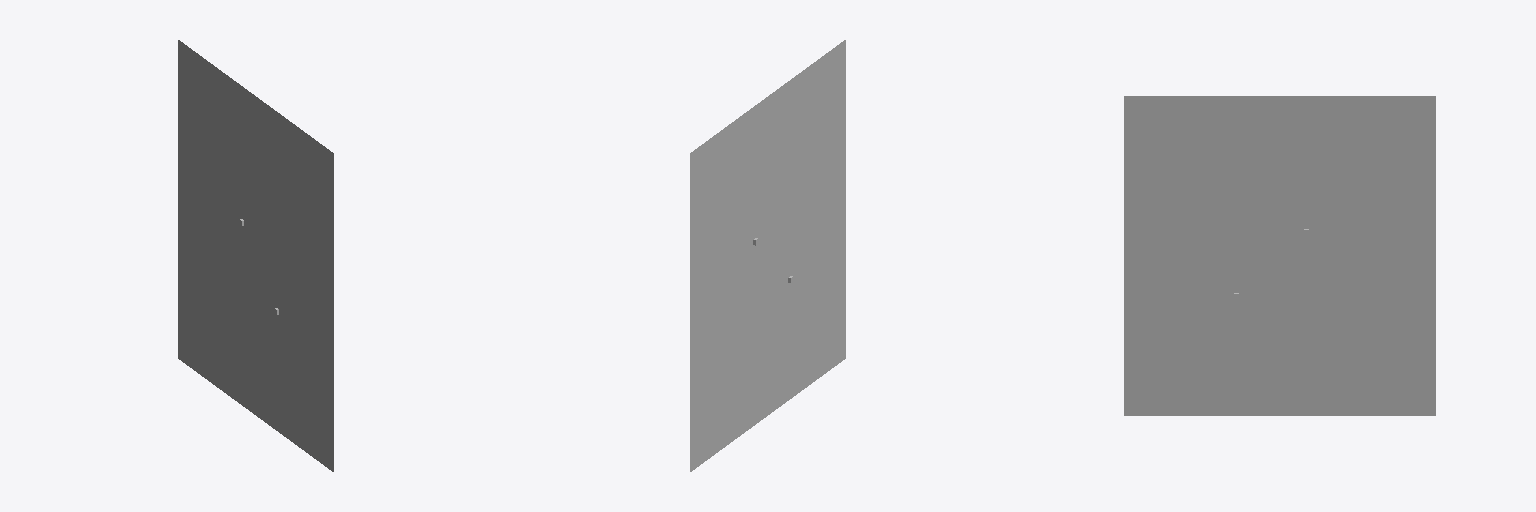
File: shooter.obj
3 renders of one model, left to right at view 1: azimuth 30°, elevation 25°; view 2: azimuth 150°, elevation 25°; view 3: azimuth 270°, elevation 25°, orthographic.
Visible parts, largest first — view 1: background_2_Plane.002, solid_1_Plane, background_1_Plane.001; view 2: background_2_Plane.002, solid_1_Plane, background_1_Plane.001; view 3: background_2_Plane.002, solid_1_Plane, background_1_Plane.001.
Part boxes in pixels (left/top/right/bottom): background_2_Plane.002: left=178, top=40, right=333, bottom=471; solid_1_Plane: left=217, top=148, right=294, bottom=363; background_1_Plane.001: left=220, top=170, right=288, bottom=339; background_2_Plane.002: left=690, top=40, right=845, bottom=471; solid_1_Plane: left=729, top=148, right=806, bottom=363; background_1_Plane.001: left=732, top=189, right=800, bottom=308; background_2_Plane.002: left=1124, top=96, right=1435, bottom=415; solid_1_Plane: left=1202, top=176, right=1357, bottom=335; background_1_Plane.001: left=1214, top=183, right=1351, bottom=322.
Size of the model in its own units: 0.02 by 1.35 by 1.19.